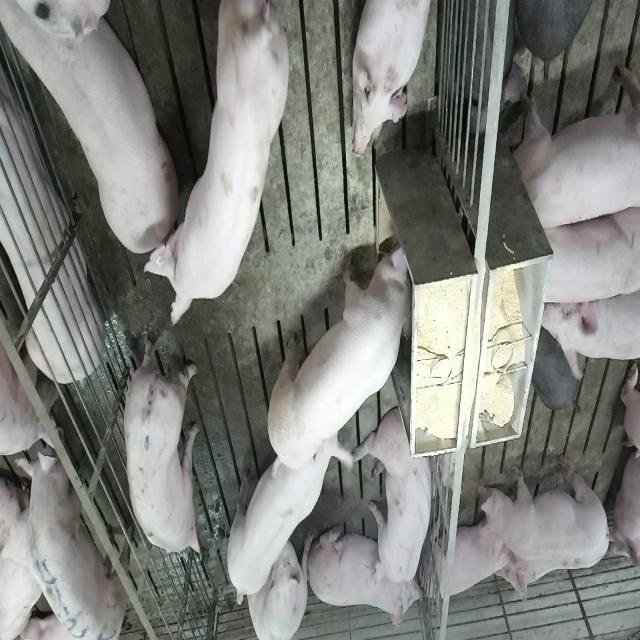Feeding: (271, 235, 421, 468)
Sitting: (358, 408, 438, 584), (246, 532, 308, 640)
Standing: (146, 2, 298, 326), (5, 4, 183, 260), (229, 414, 355, 602), (18, 435, 128, 640), (512, 64, 638, 238), (123, 330, 205, 560), (477, 450, 612, 560), (531, 206, 637, 308), (538, 278, 640, 376)
Sternal_lying: (0, 48, 100, 392), (350, 0, 432, 158), (312, 519, 424, 631), (428, 506, 512, 606)
